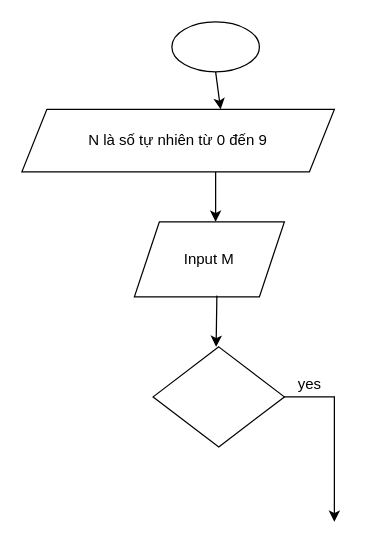
Image size: 366x554. Some labels were removed from this diagram. The centre of each missing label's shape, as x and y in pixels:
begin: [215,46]
N==M: [218,396]
